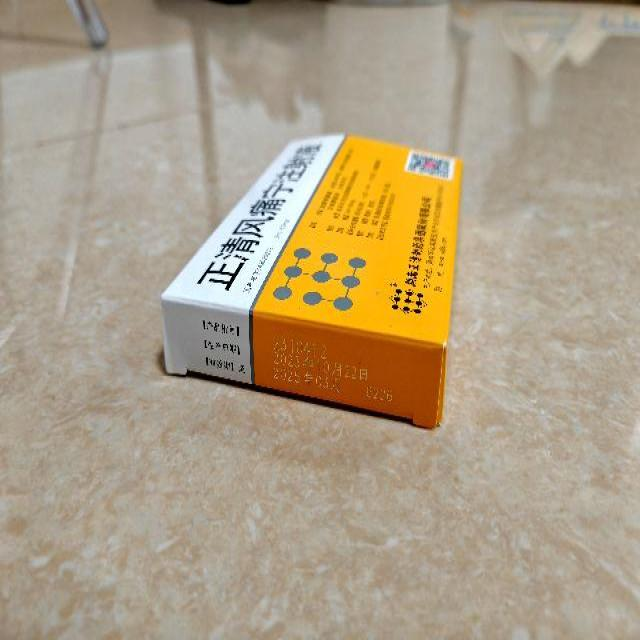box: (160, 135, 464, 430)
